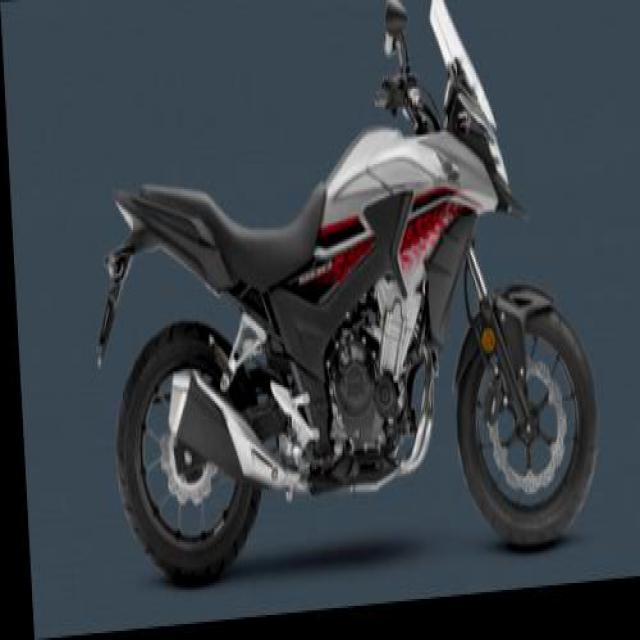CB500X: (77, 0, 599, 595)
